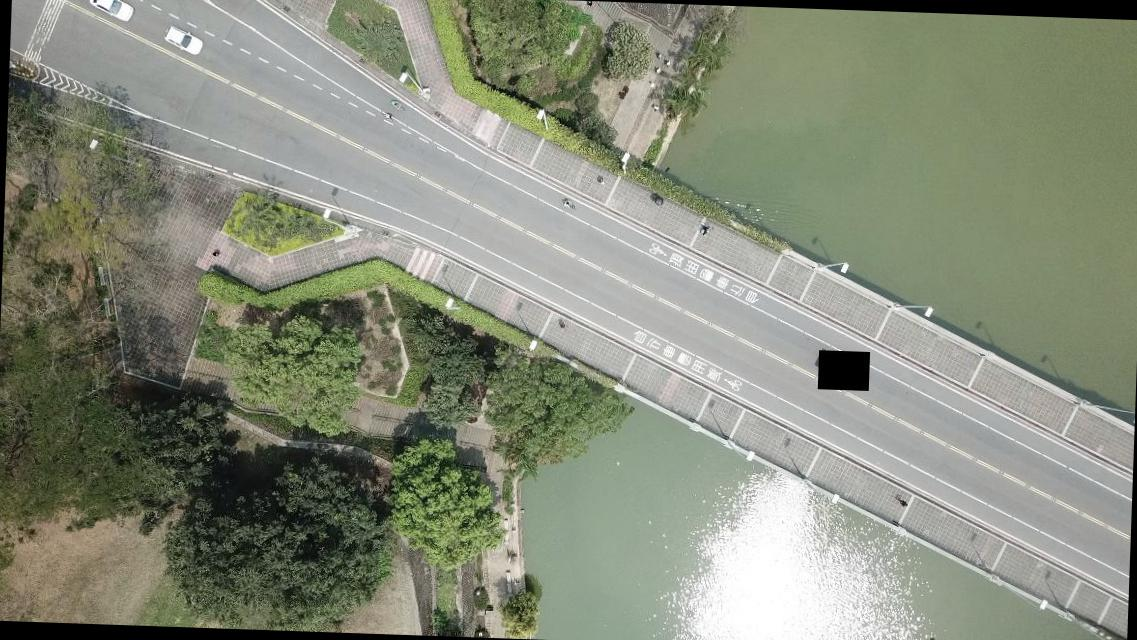vehicle: (87, 0, 135, 25), (162, 26, 203, 55)
